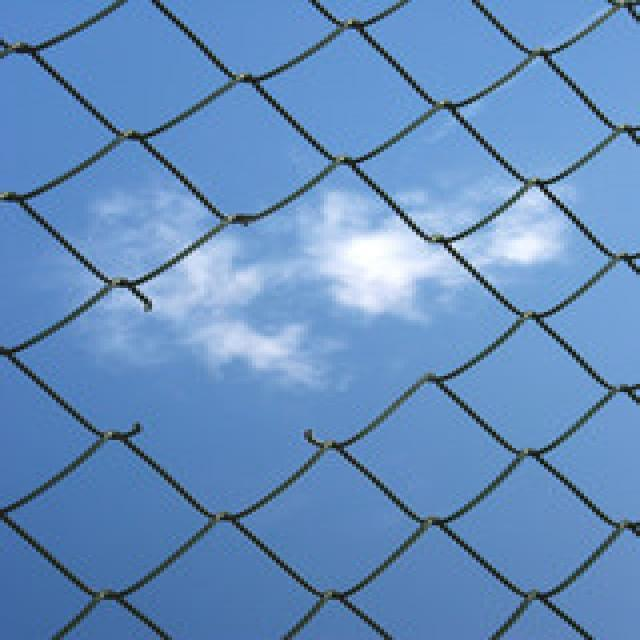fence line: (78, 168, 502, 523)
